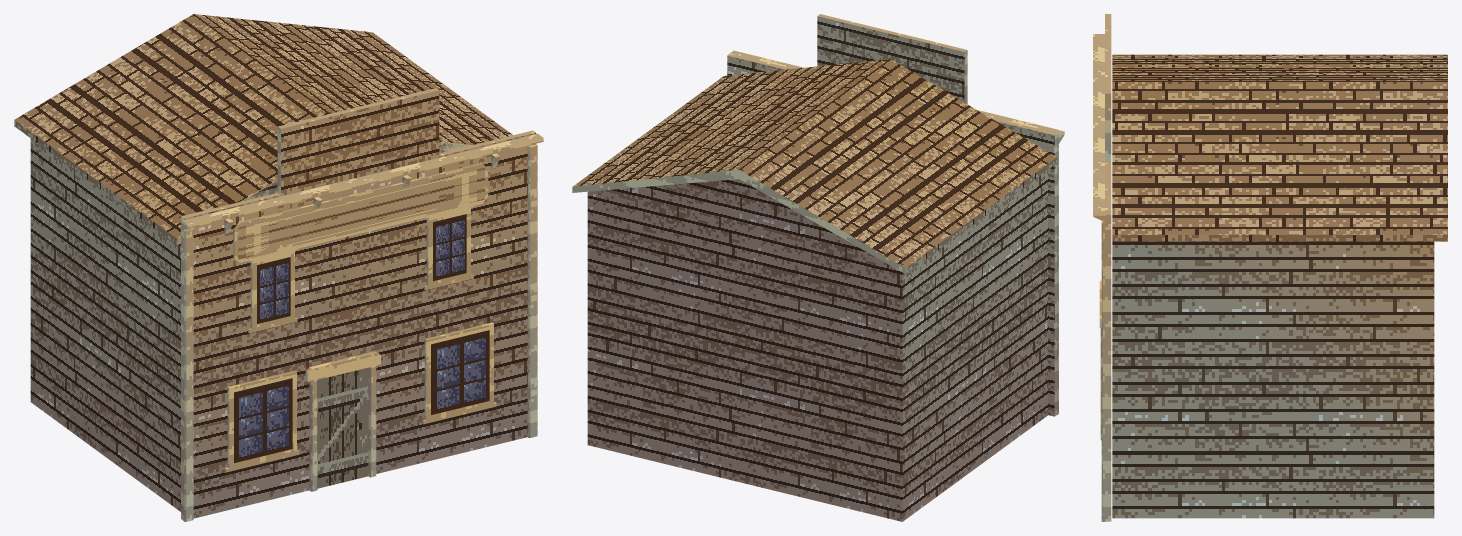
Rendered from wtown.facade__f_tall.glb.
3 renders of one model, left to right at view 1: azimuth 30°, elevation 25°; view 2: azimuth 150°, elevation 25°; view 3: azimuth 270°, elevation 25°, orthographic. The views are drawn at different scales.
Visible parts, largest first — view 1: kit_front, kit_roof, kit_body, kit_card_panes, kit_trim, kit_windows; view 2: kit_body, kit_roof, kit_front, kit_trim; view 3: kit_body, kit_roof, kit_trim, kit_front.
Part boxes in pixels (left/top/right/bottom): kit_front: left=181, top=88, right=535, bottom=519; kit_roof: left=14, top=14, right=512, bottom=245; kit_body: left=30, top=138, right=468, bottom=511; kit_card_panes: left=234, top=167, right=489, bottom=488; kit_trim: left=181, top=133, right=543, bottom=521; kit_windows: left=225, top=201, right=496, bottom=472; kit_body: left=587, top=170, right=1047, bottom=521; kit_roof: left=572, top=59, right=1057, bottom=274; kit_front: left=727, top=14, right=1057, bottom=416; kit_trim: left=728, top=50, right=1064, bottom=414; kit_body: left=1112, top=241, right=1434, bottom=518; kit_roof: left=1112, top=54, right=1447, bottom=241; kit_trim: left=1093, top=34, right=1105, bottom=521; kit_front: left=1105, top=14, right=1111, bottom=521.
Bounding box in the file's own units: 7.94 × 7.8 × 6.61.
6 materials, 6 textured.
